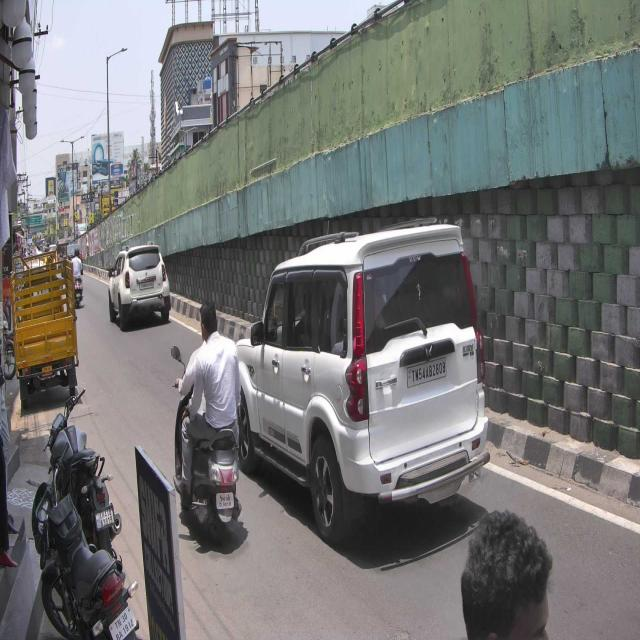double_rider: (168, 294, 244, 544)
